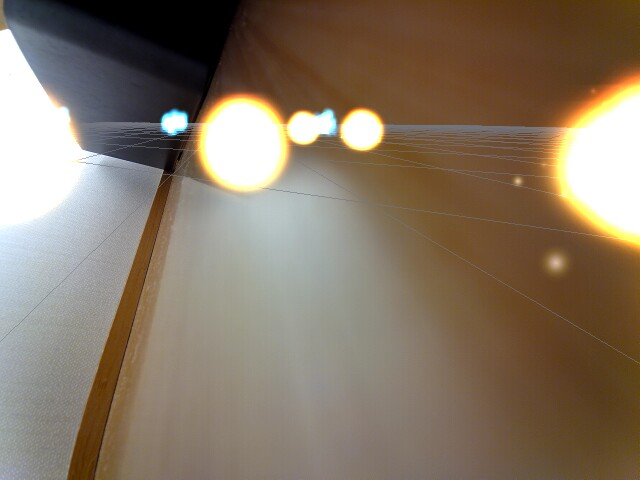firebig: (535, 61, 640, 263)
